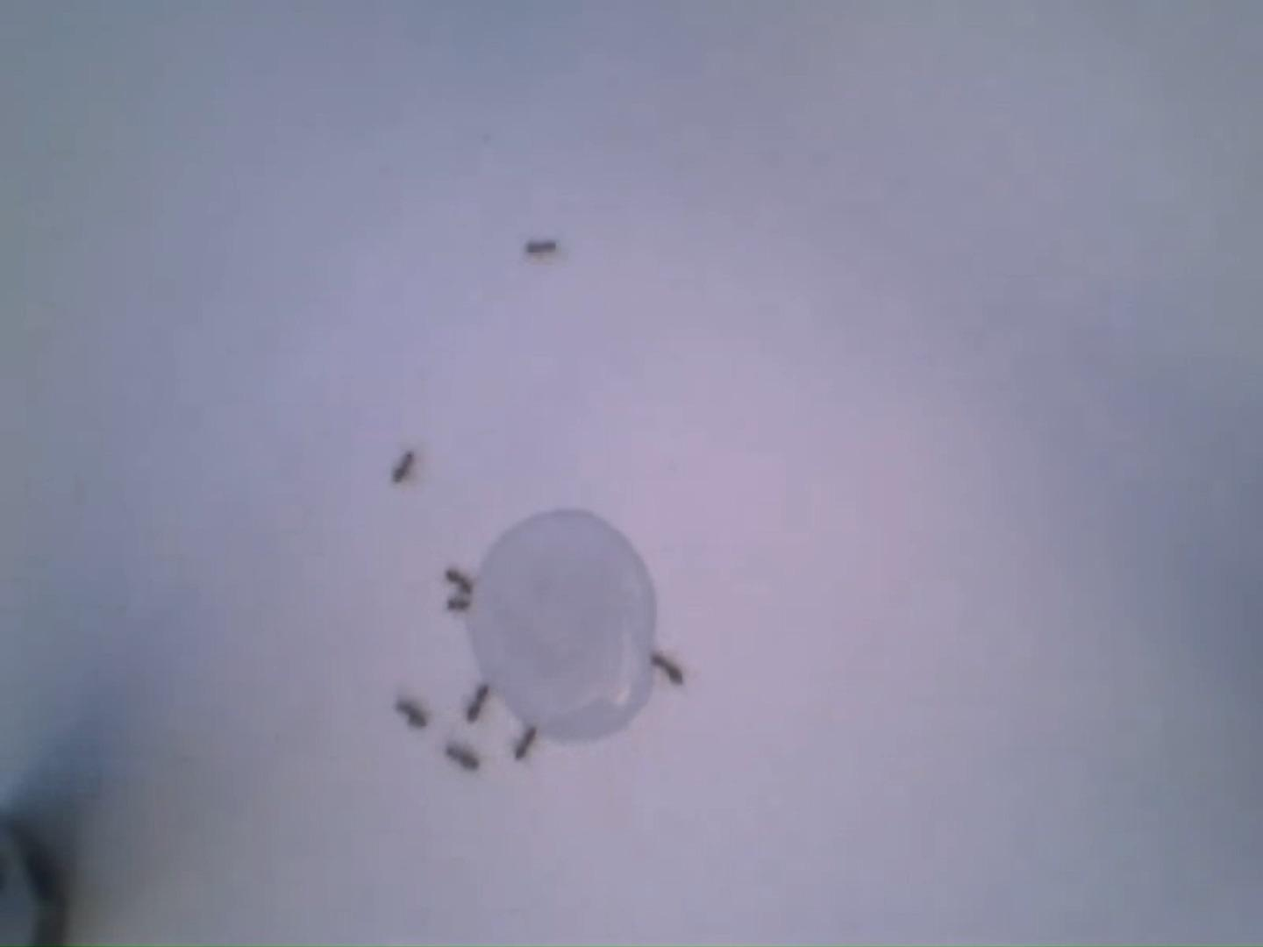Ant: (447, 740, 484, 773), (653, 651, 686, 684), (397, 696, 432, 727), (393, 448, 420, 483), (515, 726, 541, 762), (468, 683, 492, 722), (446, 566, 477, 591), (527, 237, 561, 257), (449, 593, 475, 612)
